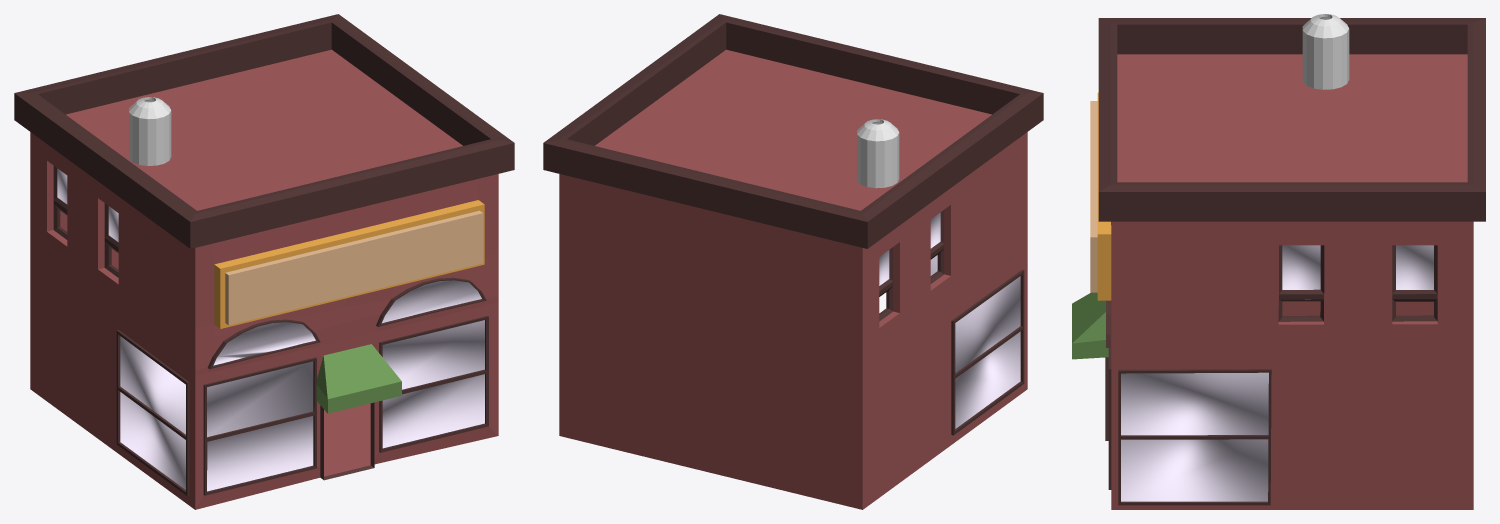
File: Bookstorefinal.fbx
The picture shows the model from 3 angles, left to right: view 1: azimuth 30°, elevation 25°; view 2: azimuth 150°, elevation 25°; view 3: azimuth 270°, elevation 25°; orthographic projection. The views are drawn at different scales.
Visible parts, largest first — view 1: Plane.011; view 2: Plane.011; view 3: Plane.011.
Boxes of the visible parts, box(x1,y1,x2,y2) form: Plane.011: box(14, 14, 514, 509); Plane.011: box(543, 14, 1043, 509); Plane.011: box(1072, 14, 1485, 509).
Size of the model in its own units: 2948 by 2852 by 2966.
